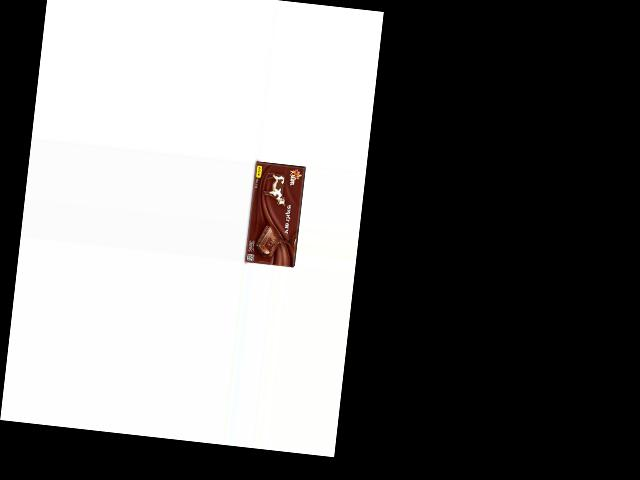chocolate: (244, 158, 306, 266)
